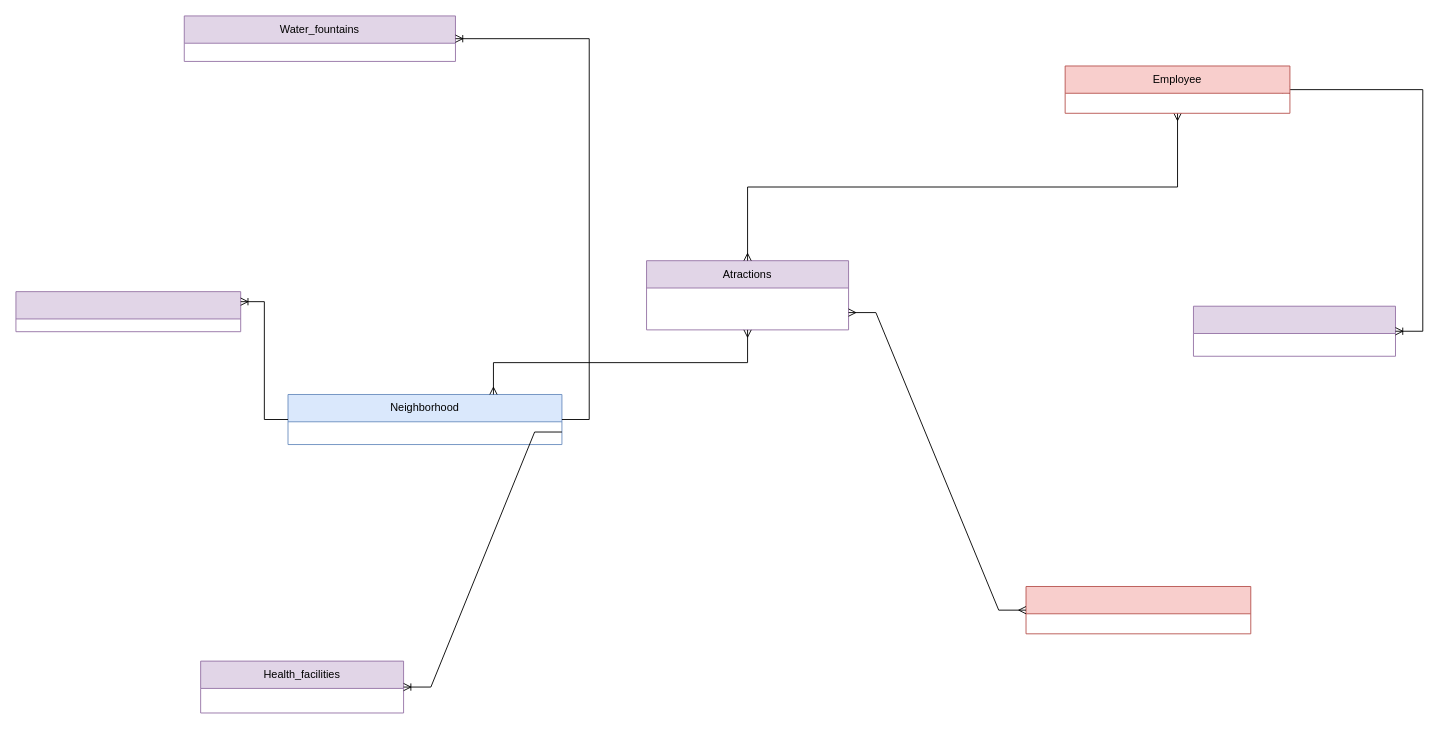
Image size: 1446x729. Some labels were removed from this diagram. Here are the shapes that lost their labels. From the top down, the centre of each, then its label:
At [128,311]: "Parks".
At [1294,330]: "Tourist_routes".
At [1138,610]: "Members".
